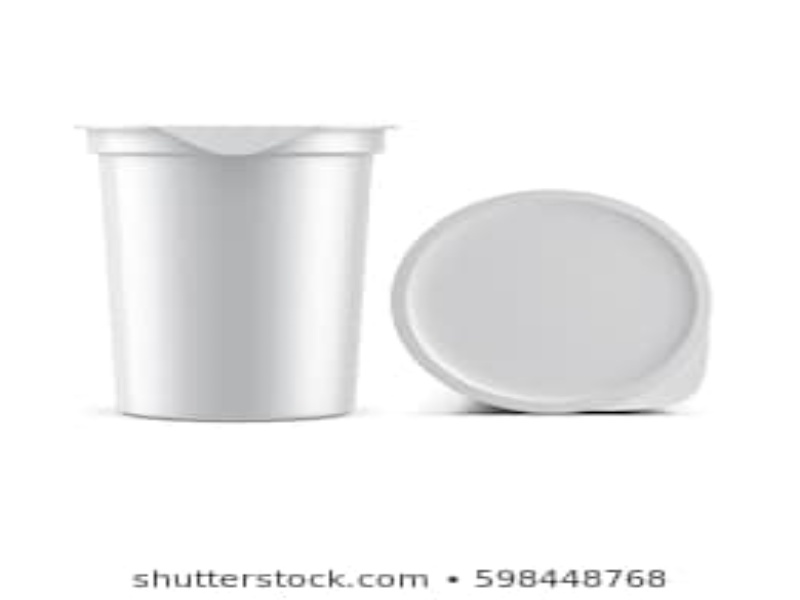yogurt-cup: (89, 125, 398, 418)
